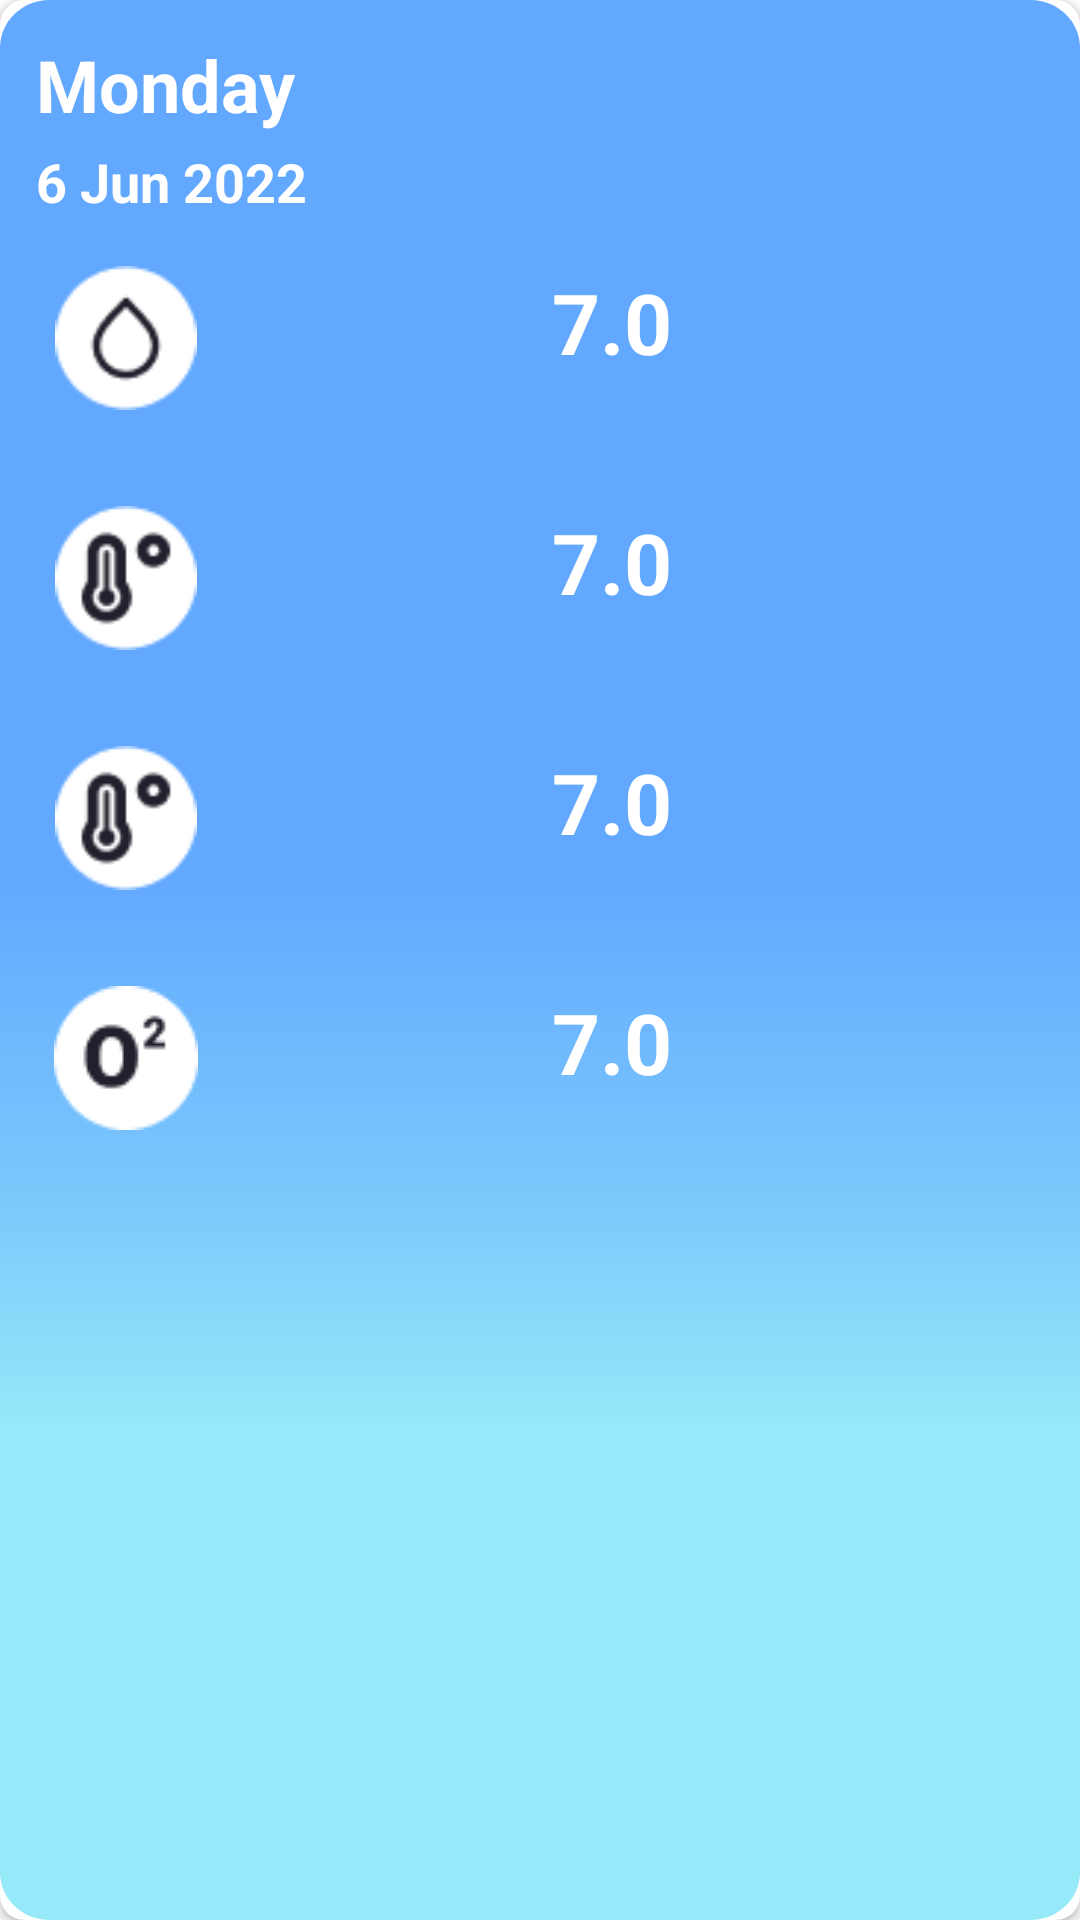

Where icons sit on this 1080 x 1920 app screen, as (x1, y1, x2, y2):
oxy: (54, 986, 198, 1130)
water: (55, 266, 197, 410)
